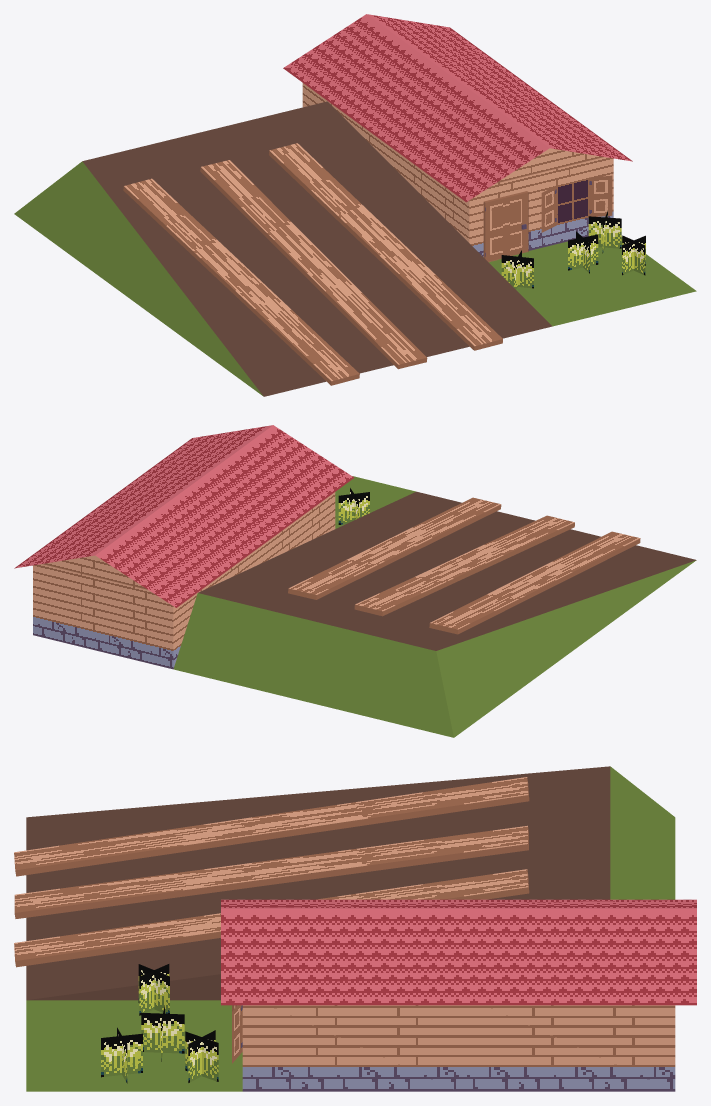
Rendered from ship_yard.glb.
The picture shows the model from 3 angles, top to bottom: view 1: azimuth 30°, elevation 25°; view 2: azimuth 150°, elevation 25°; view 3: azimuth 270°, elevation 25°; orthographic projection. The views are drawn at different scales.
Parts seen in each view (by area): view 1: ship_yard; view 2: ship_yard; view 3: ship_yard.
Part boxes in pixels (x1,y1,x2,y2): ship_yard: (14, 14, 696, 396); ship_yard: (14, 425, 696, 737); ship_yard: (14, 766, 696, 1091).
Bounding box in the file's own units: 15.39 × 3.54 × 15.78.
1 material, 1 textured.
